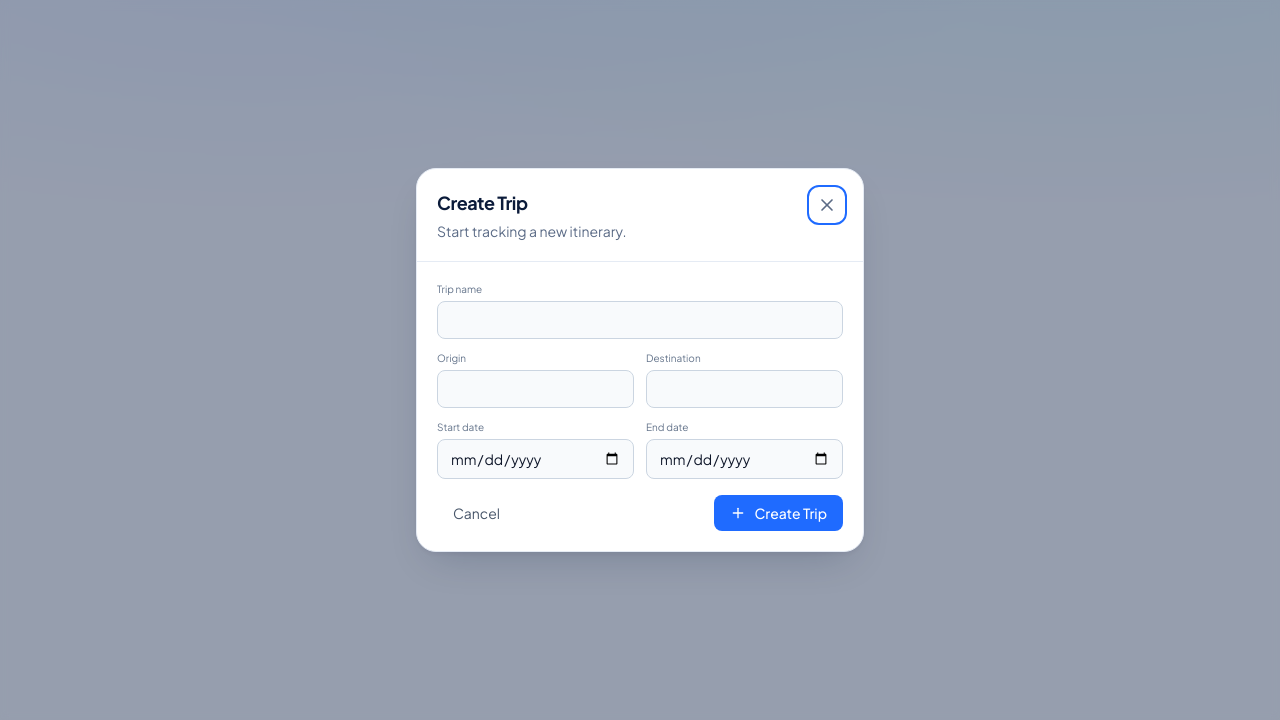
Test: CreateTripModal › blocks submission and shows field errors when required fields are empty
This screenshot has width=1280, height=720.
Expected: the field labelled "Trip name" is shown, [437,301,843,339]
Click the button "Create Trip".
click(779, 513)  # box [714,495,843,531]
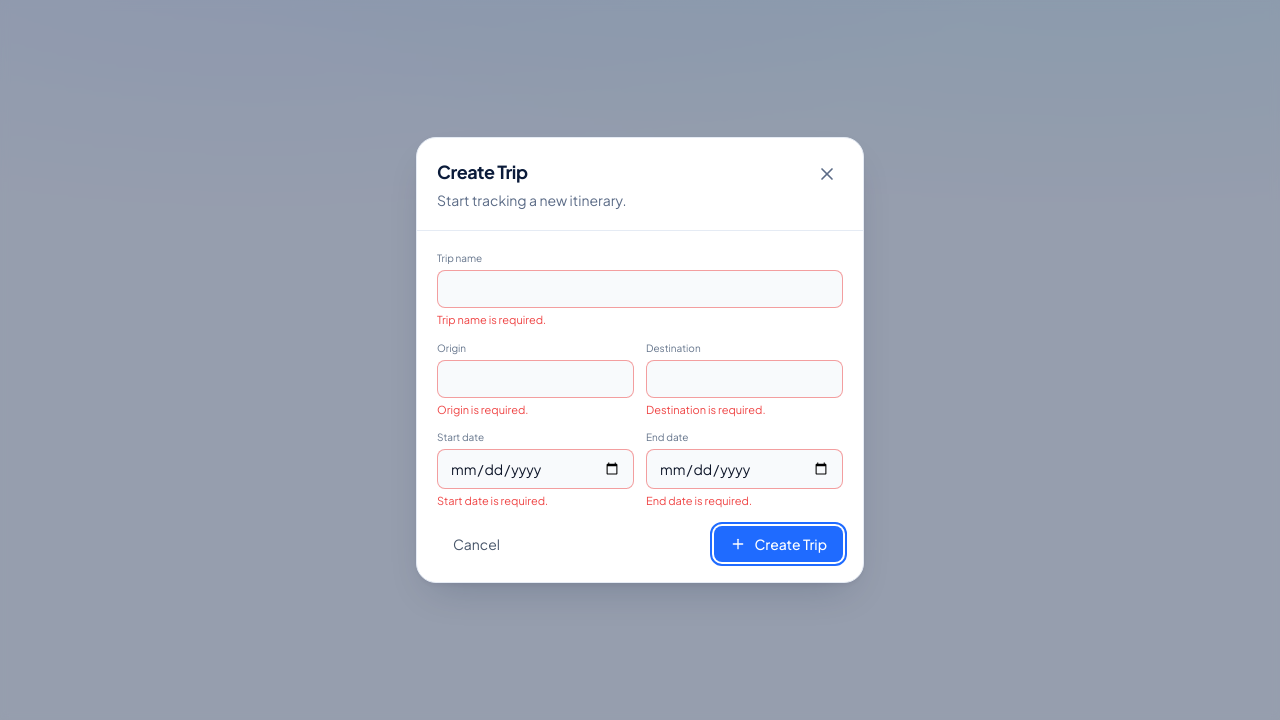
Expected: the text "Trip name is required." is shown, [437,313,546,326]
Expected: the text "Origin is required." is shown, [437,403,528,416]
Expected: the text "Destination is required." is shown, [646,403,766,416]
